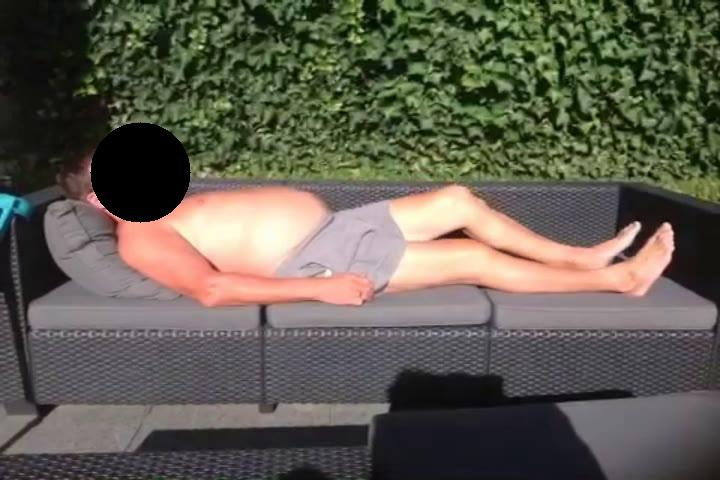lower_body: (317, 184, 678, 302)
